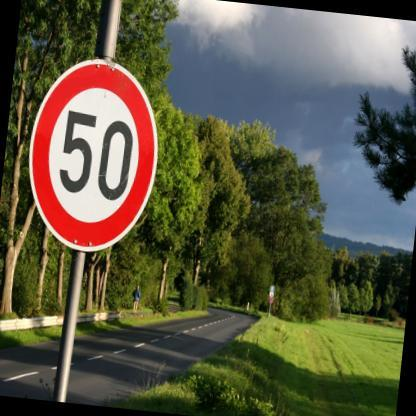road_sign: (29, 60, 160, 255)
